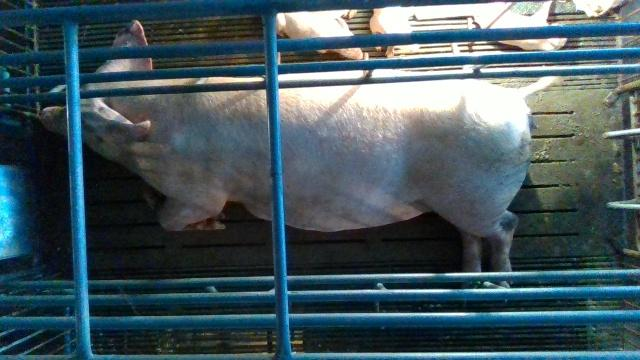piglet: (277, 8, 369, 60), (473, 1, 568, 51), (370, 6, 421, 54)
sow-sit: (35, 21, 557, 303)
